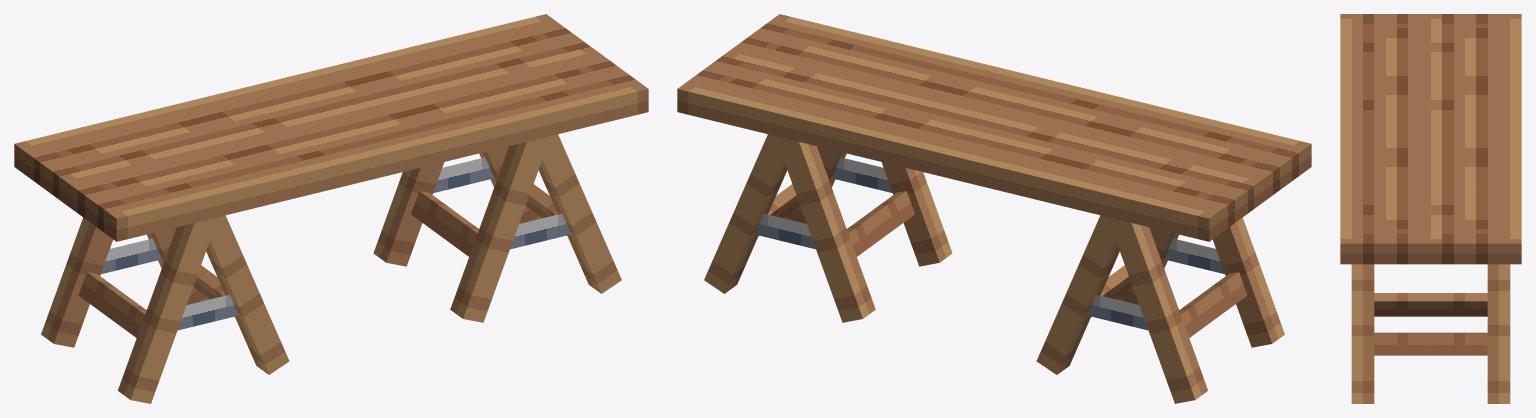
File: light-table.gltf
3 renders of one model, left to right at view 1: azimuth 30°, elevation 25°; view 2: azimuth 150°, elevation 25°; view 3: azimuth 270°, elevation 25°, orthographic. The views are drawn at different scales.
Visible parts, largest first — view 1: cube (×17); view 2: cube (×17); view 3: cube (×5).
Boxes of the visible parts, box(x1,y1,x2,y2) form: cube (×17): box(14, 14, 648, 403); cube (×17): box(677, 14, 1311, 403); cube (×5): box(1340, 14, 1521, 403).
Size of the model in its own units: 3 by 1.08 by 1.
1 material, 1 textured.
